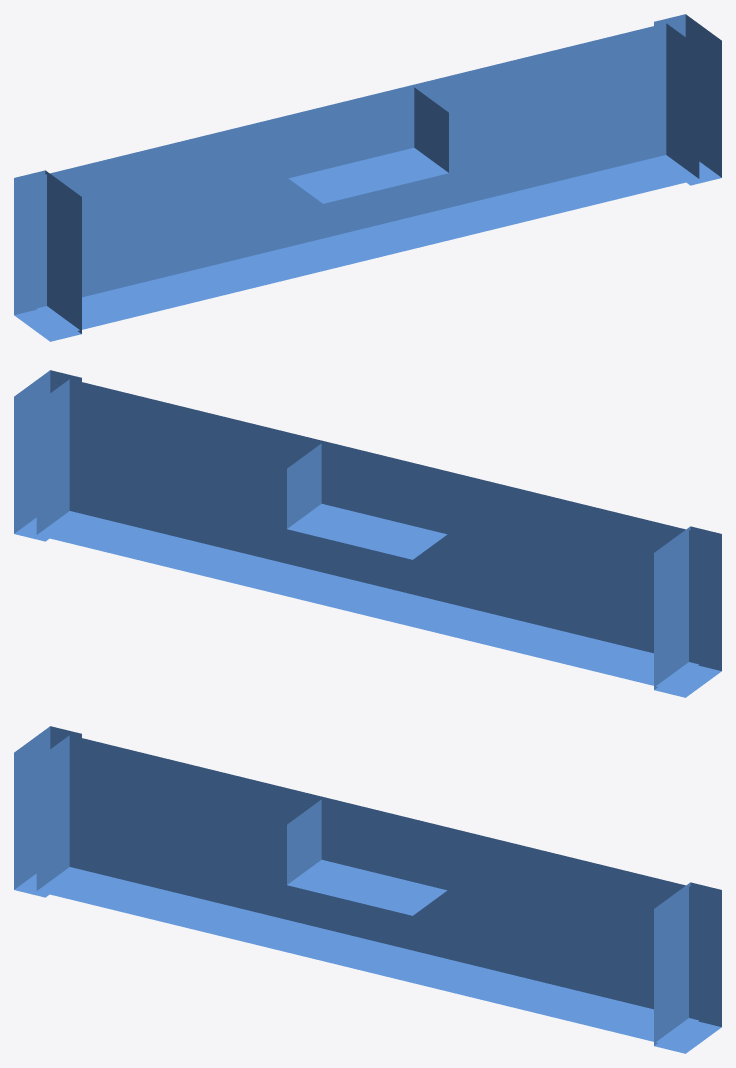
Rendered from measuring_spirit_level.gltf.
3 renders of one model, top to bottom at view 1: azimuth 30°, elevation 25°; view 2: azimuth 150°, elevation 25°; view 3: azimuth 330°, elevation 25°, orthographic.
Parts seen in each view (by area): view 1: measuring_spirit_level; view 2: measuring_spirit_level; view 3: measuring_spirit_level.
Boxes of the visible parts, x1=… form: measuring_spirit_level: x1=14, y1=14, x2=721, y2=341; measuring_spirit_level: x1=14, y1=370, x2=721, y2=697; measuring_spirit_level: x1=14, y1=726, x2=721, y2=1053.
Bounding box in the file's own units: 2.56 × 0.5 × 0.24.
